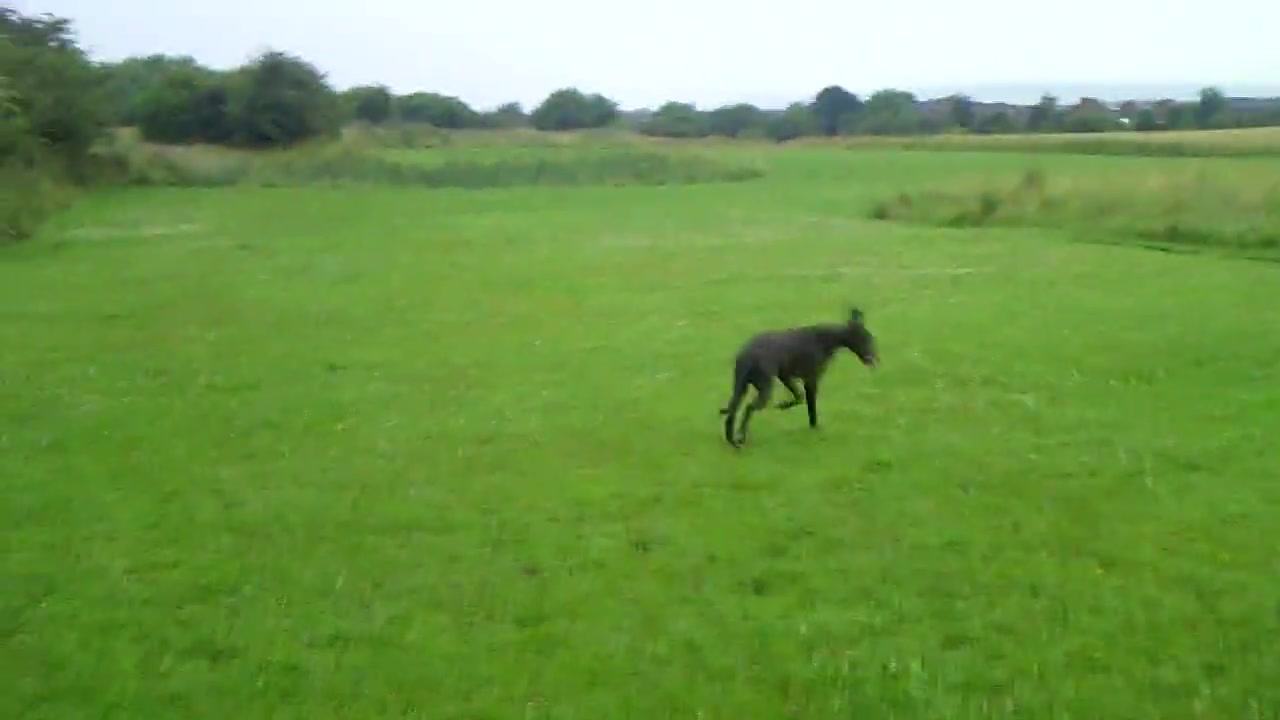dog: (718, 310, 885, 451)
